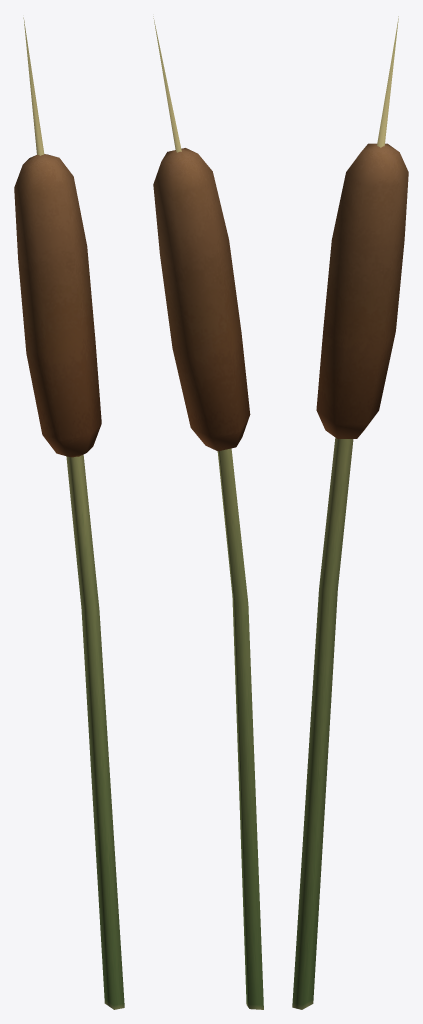
Rendered from Cattail_5.fbx.
3 views of the same model, side by side, from view 1: azimuth 90°, elevation 25°; view 2: azimuth 150°, elevation 25°; view 3: azimuth 270°, elevation 25° (orthographic). The views are drawn at different scales.
Parts seen in each view (by area): view 1: Sphere.024, Cube.082; view 2: Sphere.024, Cube.082; view 3: Sphere.024, Cube.082.
Part boxes in pixels (x1,y1,x2,y2): Sphere.024: (14, 154, 101, 457); Cube.082: (23, 17, 124, 1009); Sphere.024: (153, 148, 250, 451); Cube.082: (153, 16, 263, 1009); Sphere.024: (316, 143, 408, 438); Cube.082: (292, 16, 398, 1009).
Bounding box in the file's own units: 7.08 × 92.32 × 9.56.
